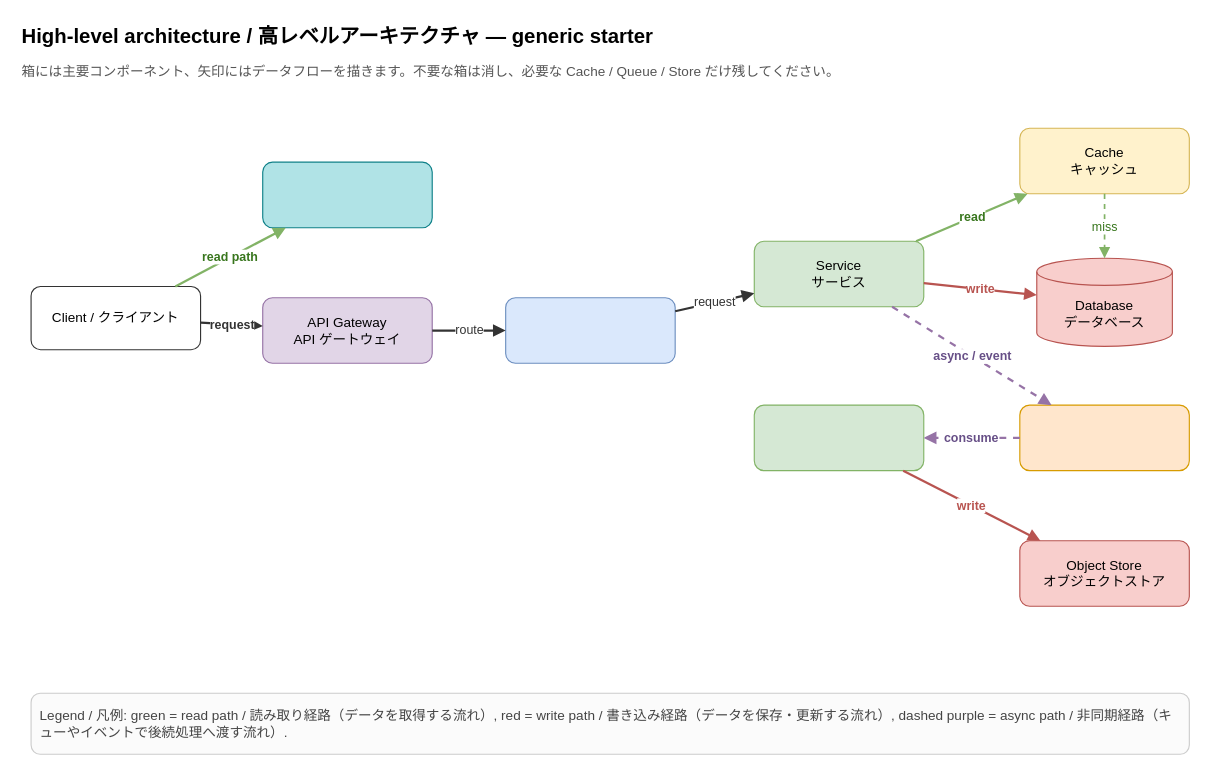
This 1209x774 diagram has some shape labels left out. The box of each missing label's shape, as (x1, y1, x2, y2) in pixels:
CDN / Edge CDN / エッジ: (262, 161, 432, 228)
Load Balancer ロードバランサー: (505, 297, 675, 363)
Message Queue メッセージキュー: (1019, 404, 1189, 471)
Worker ワーカー: (753, 404, 924, 471)
